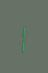one: (19, 19, 26, 53)
